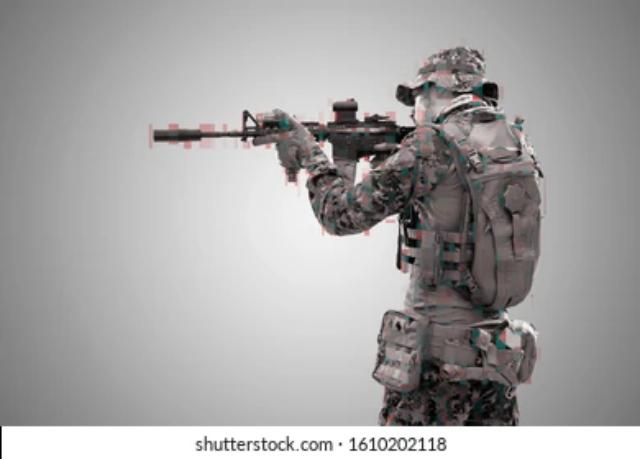other: (378, 39, 538, 424)
